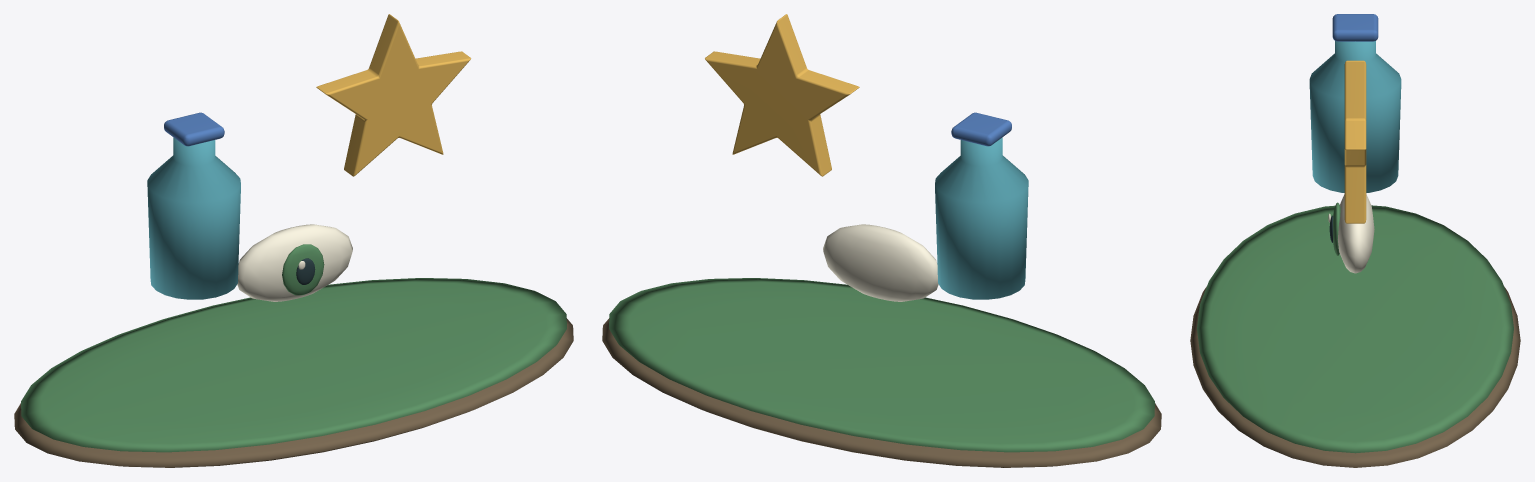
File: complete-second-wine-star-waking.glb
3 views of the same model, side by side, from view 1: azimuth 30°, elevation 25°; view 2: azimuth 150°, elevation 25°; view 3: azimuth 270°, elevation 25° (orthographic). The views are drawn at different scales.
Parts seen in each view (by area): view 1: complete-second-wine-star-waking_surface_01, complete-second-wine-star-waking_surface_02, complete-second-wine-star-waking_surface_04, complete-second-wine-star-waking_surface_00, complete-second-wine-star-waking_surface_05, complete-second-wine-star-waking_surface_03; view 2: complete-second-wine-star-waking_surface_01, complete-second-wine-star-waking_surface_02, complete-second-wine-star-waking_surface_04, complete-second-wine-star-waking_surface_00, complete-second-wine-star-waking_surface_05, complete-second-wine-star-waking_surface_03; view 3: complete-second-wine-star-waking_surface_01, complete-second-wine-star-waking_surface_02, complete-second-wine-star-waking_surface_00, complete-second-wine-star-waking_surface_04, complete-second-wine-star-waking_surface_05, complete-second-wine-star-waking_surface_03.
Part boxes in pixels (x1,y1,x2,y2): complete-second-wine-star-waking_surface_01: (21,244,566,452); complete-second-wine-star-waking_surface_02: (147,137,240,299); complete-second-wine-star-waking_surface_04: (316,14,470,176); complete-second-wine-star-waking_surface_00: (14,318,573,467); complete-second-wine-star-waking_surface_05: (237,224,352,301); complete-second-wine-star-waking_surface_03: (164,112,224,146); complete-second-wine-star-waking_surface_01: (609,278,1154,452); complete-second-wine-star-waking_surface_02: (935,137,1028,299); complete-second-wine-star-waking_surface_04: (705,14,859,176); complete-second-wine-star-waking_surface_00: (602,318,1161,467); complete-second-wine-star-waking_surface_05: (823,224,938,301); complete-second-wine-star-waking_surface_03: (951,112,1011,146); complete-second-wine-star-waking_surface_01: (1197,202,1513,453); complete-second-wine-star-waking_surface_02: (1309,41,1401,192); complete-second-wine-star-waking_surface_00: (1190,286,1520,467); complete-second-wine-star-waking_surface_04: (1344,60,1366,223); complete-second-wine-star-waking_surface_05: (1328,194,1374,273); complete-second-wine-star-waking_surface_03: (1332,14,1378,41).
Bounding box in the file's own units: 4.56 × 2.86 × 2.5.
